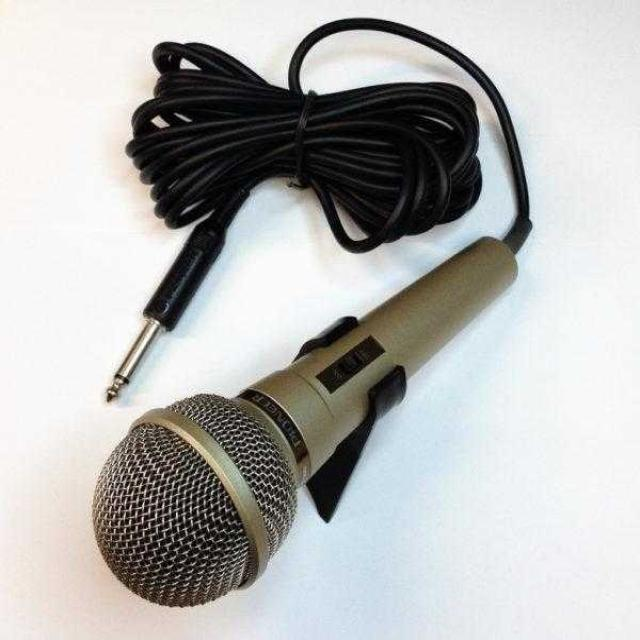microphone: (100, 229, 517, 602)
